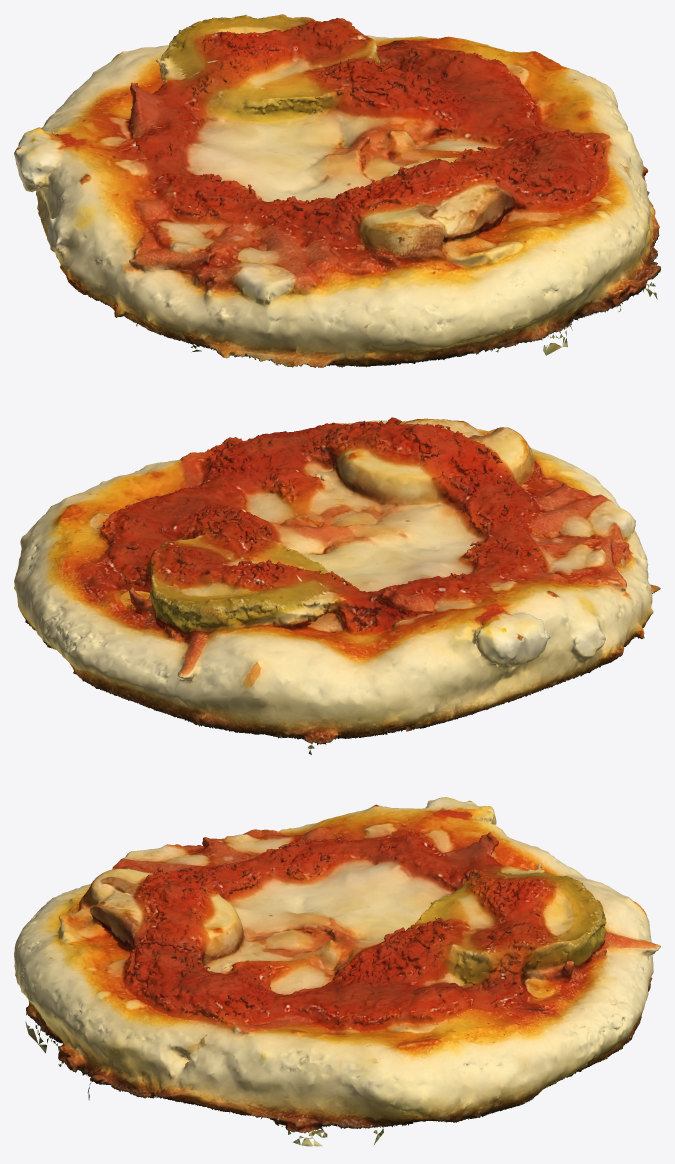
The model's file is metashape_pizza2_m.glb.
3 renders of one model, top to bottom at view 1: azimuth 30°, elevation 25°; view 2: azimuth 150°, elevation 25°; view 3: azimuth 270°, elevation 25°, orthographic. The views are drawn at different scales.
Visible parts, largest first — view 1: Scan; view 2: Scan; view 3: Scan.
Part boxes in pixels (left/top/right/bottom): Scan: left=14, top=14, right=660, bottom=367; Scan: left=14, top=417, right=660, bottom=754; Scan: left=14, top=797, right=660, bottom=1146.
Size of the model in its own units: 0.289 by 0.0725 by 0.3.
Materials: 2 (1 with a texture image).
